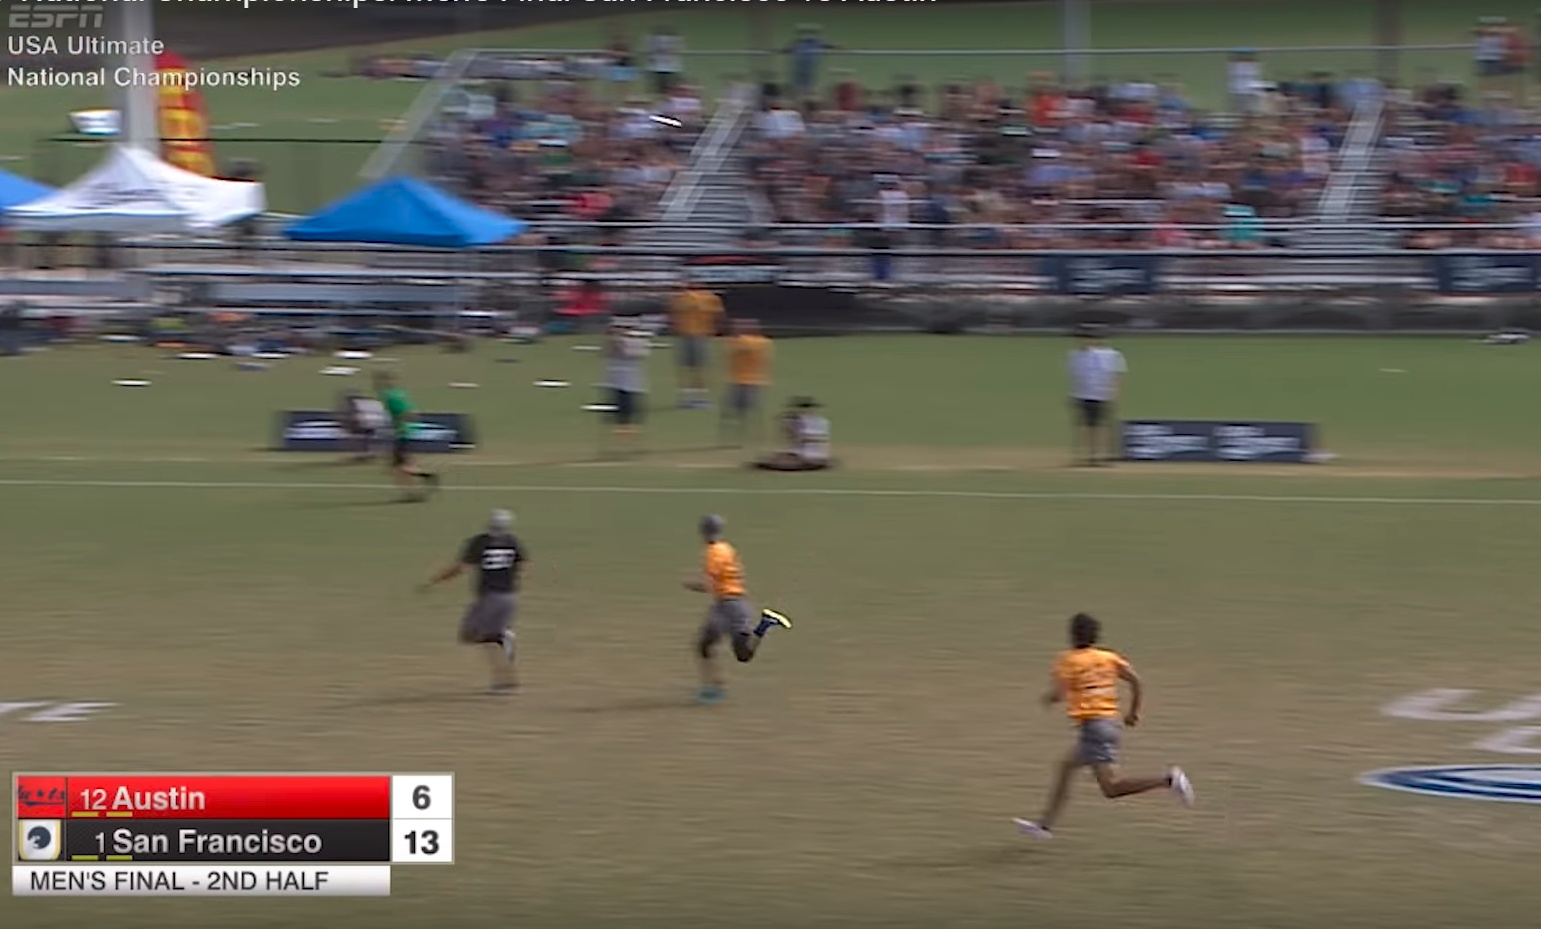frisbee: (649, 112, 684, 128), (532, 378, 571, 389), (581, 403, 618, 412), (113, 379, 150, 387), (176, 352, 215, 359), (318, 370, 352, 376), (325, 365, 359, 372), (448, 380, 477, 387), (573, 345, 601, 351), (254, 352, 282, 358)
